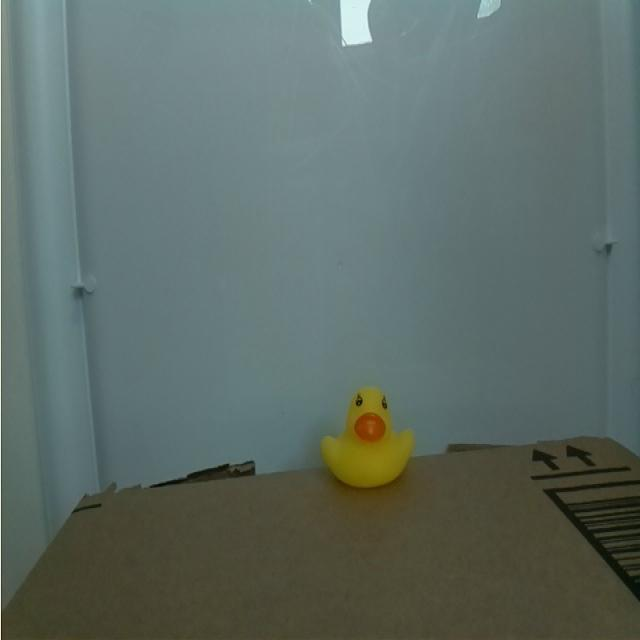duck_regular: (310, 362, 427, 506)
